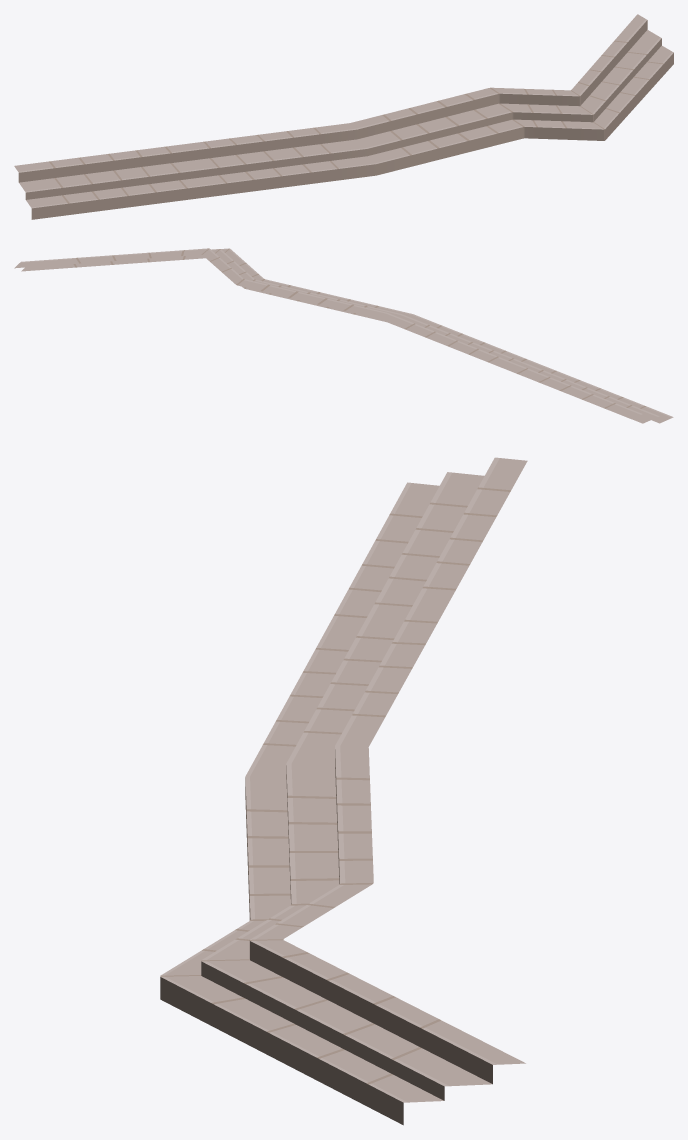
The model's file is TownStairs.glb.
3 renders of one model, top to bottom at view 1: azimuth 30°, elevation 25°; view 2: azimuth 150°, elevation 25°; view 3: azimuth 270°, elevation 25°, orthographic. The views are drawn at different scales.
Parts seen in each view (by area): view 1: TownStairs; view 2: TownStairs; view 3: TownStairs.
Boxes of the visible parts, <box> form: TownStairs: <box>14,14,673,219</box>; TownStairs: <box>14,248,673,423</box>; TownStairs: <box>160,457,527,1125</box>.
Bounding box in the file's own units: 16.42 × 0.7007 × 4.11.
